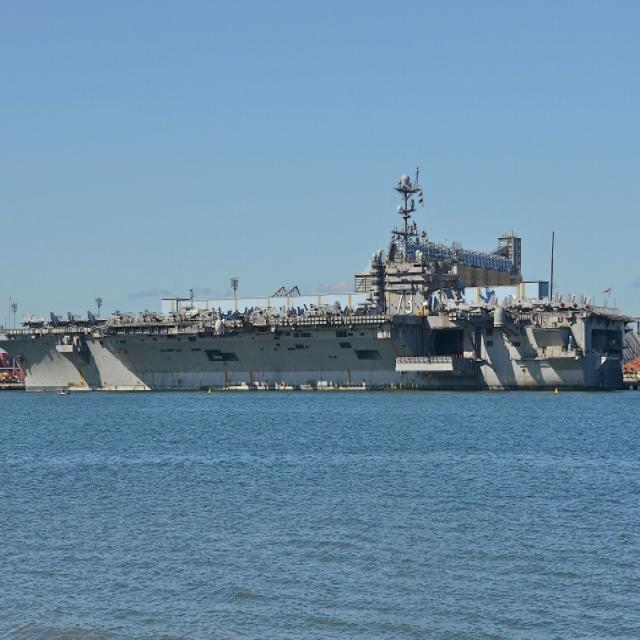Portanaves: (1, 173, 631, 398)
